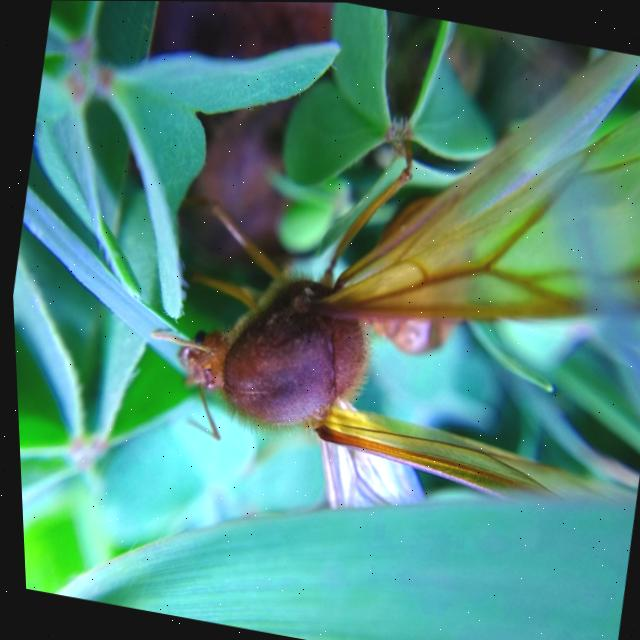Alive-Male-Alate: (88, 1, 640, 640)
